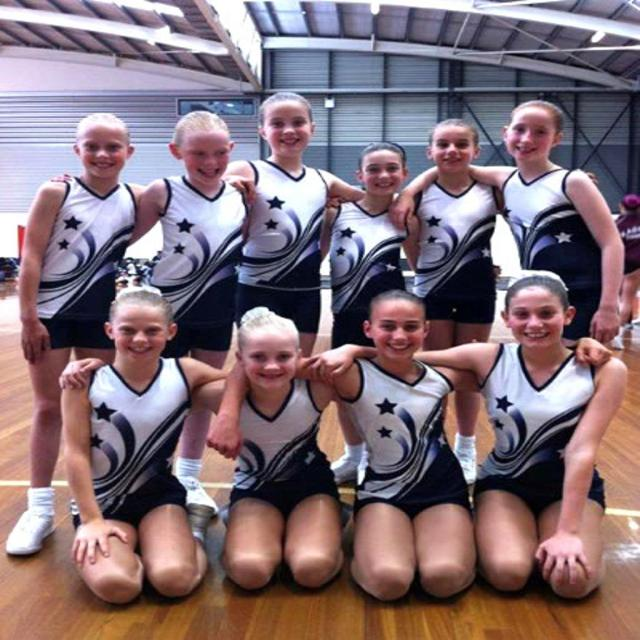Face: (489, 284, 578, 357), (59, 112, 147, 185), (98, 293, 180, 371), (365, 288, 443, 364), (229, 309, 308, 378), (167, 114, 234, 194), (256, 90, 320, 168), (423, 115, 480, 182), (503, 107, 563, 168), (347, 142, 407, 201)
